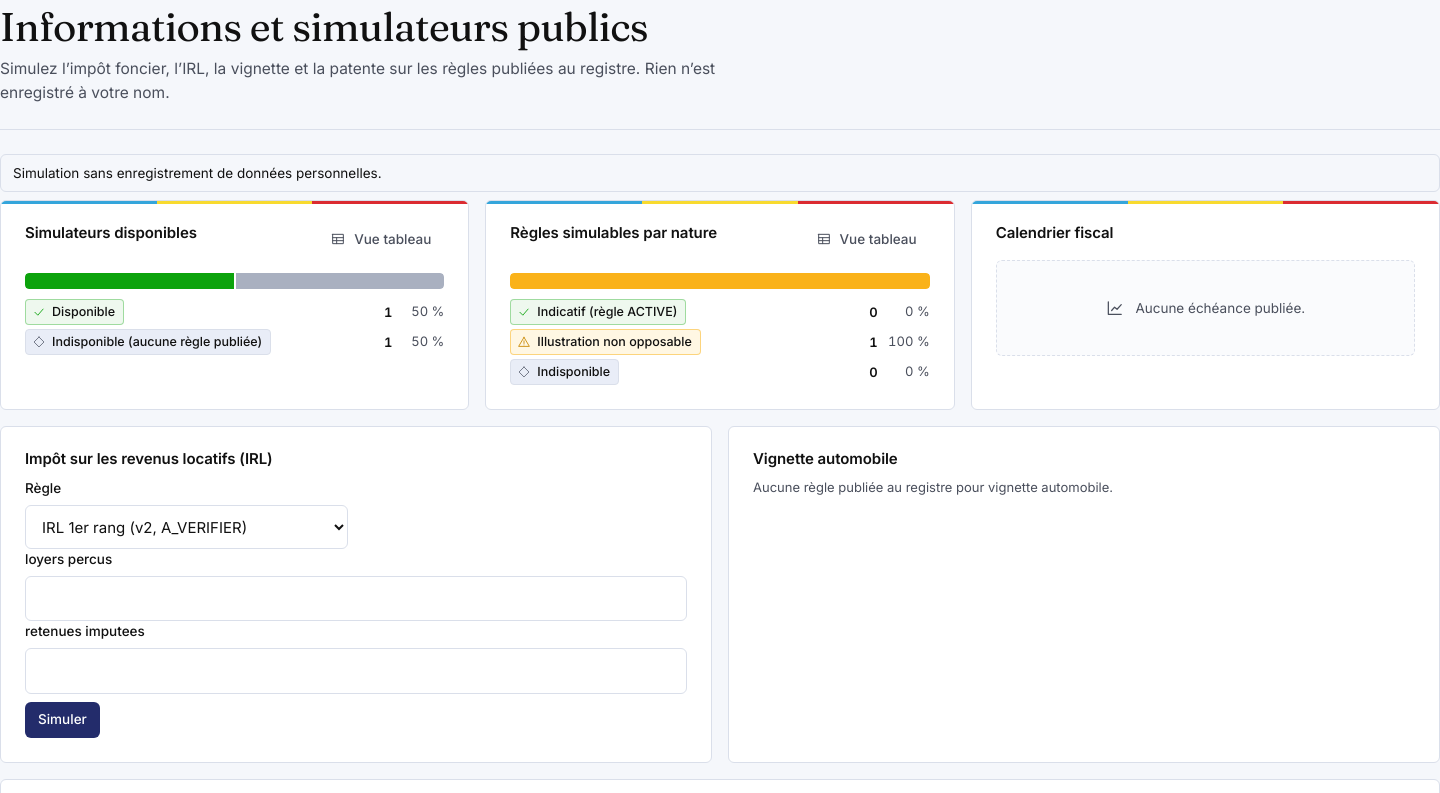
Test: Module 5 — anti-robots et simulateurs › simulateur IRL : illustration non opposable ; vignette indisponible sans règle
Check: the text "Aucune règle publiée au registre pour vignette automobile." is shown, box [753,479,1113,495]
In the field labelled "loyers percus": (356, 599) [25,576,687,622], type "1000"
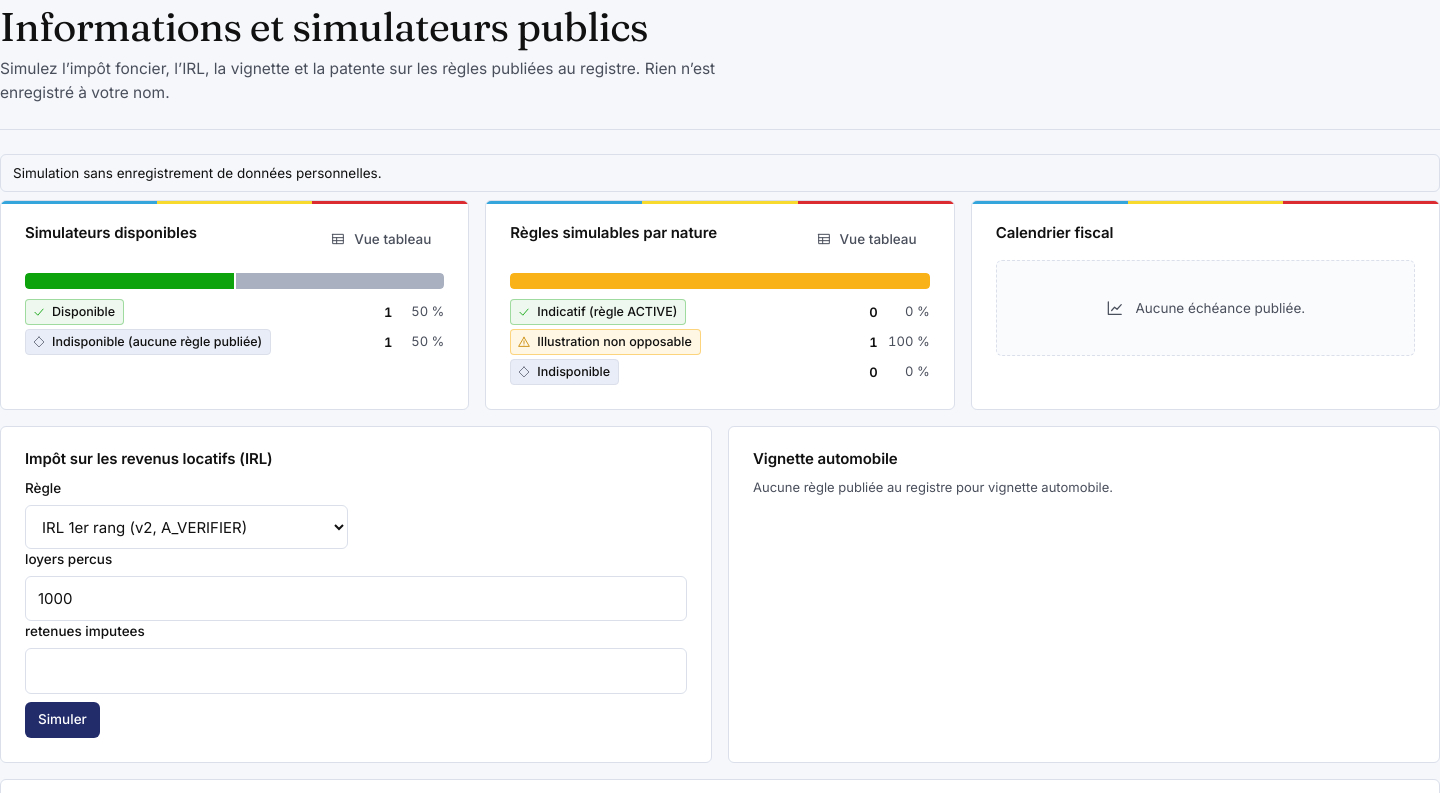
In the field labelled "retenues imputees": (356, 671) [25,648,687,694], type "200"
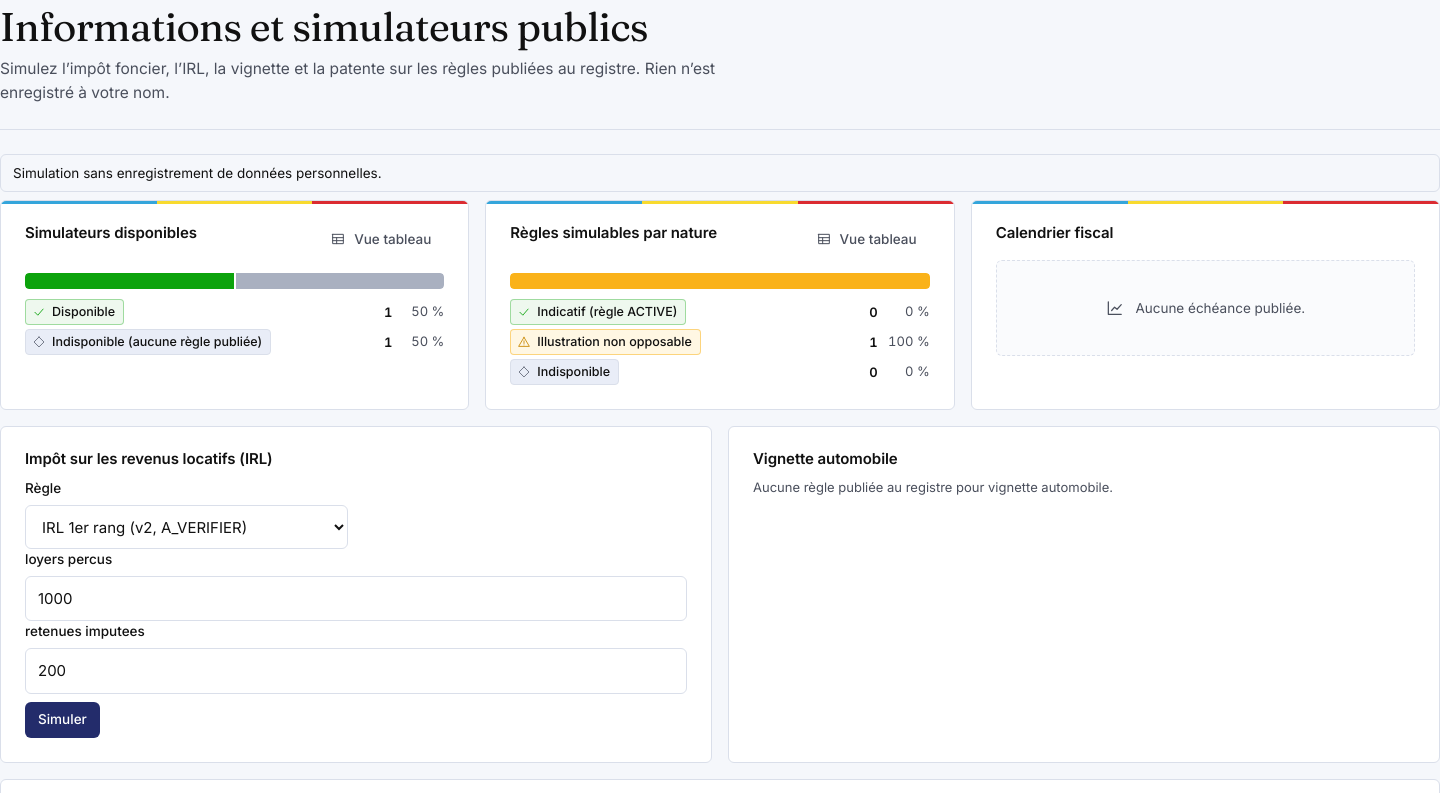
Click the button "Simuler": (62, 720) [25,702,100,738]
(page scrolled)
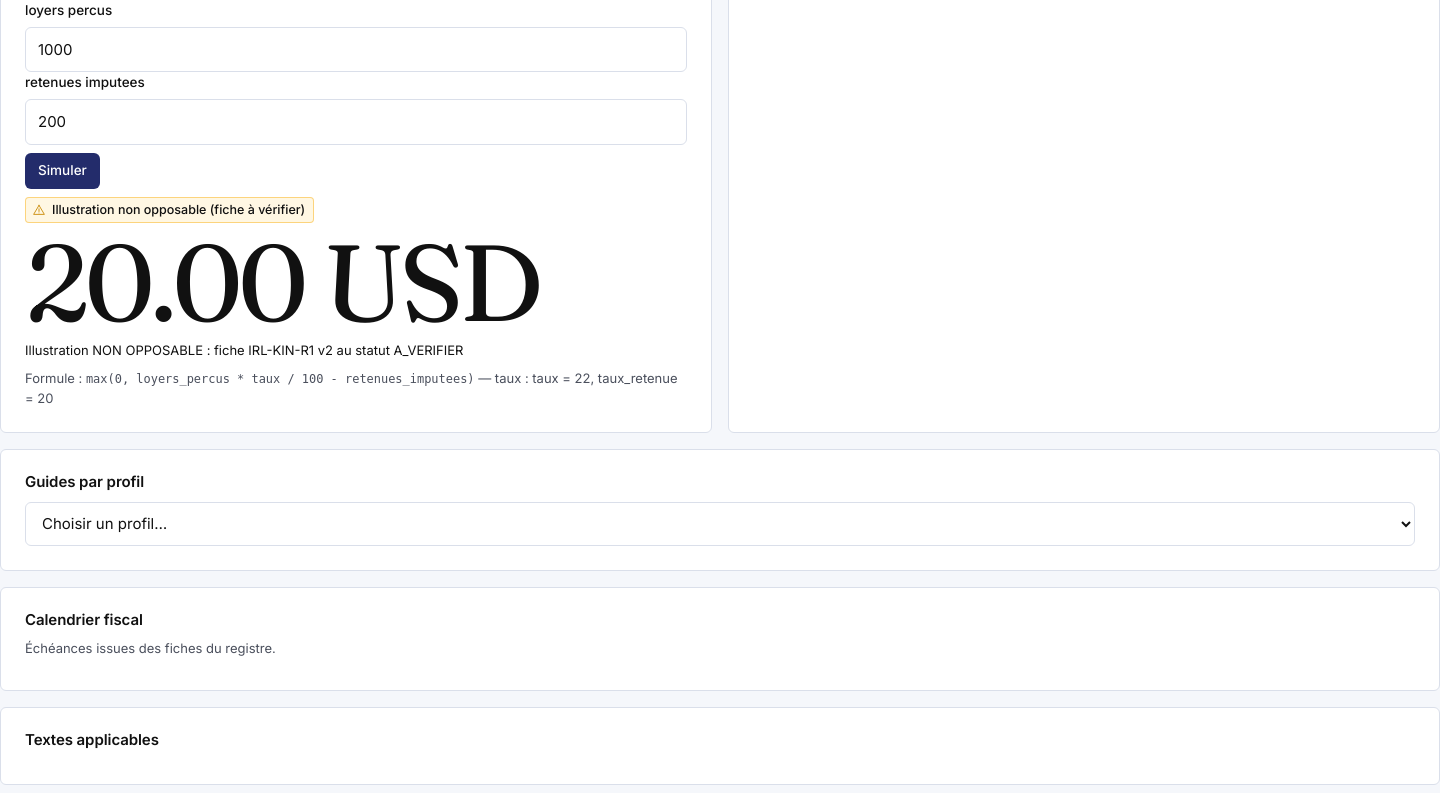
Check: the text "20.00 USD" is shown, box [25,215,539,349]
Check: the text "Illustration non opposable (fiche à vérifier)" is shown, box [52,200,305,220]
Check: the text "taux = 22" is shown, box [25,370,678,406]
